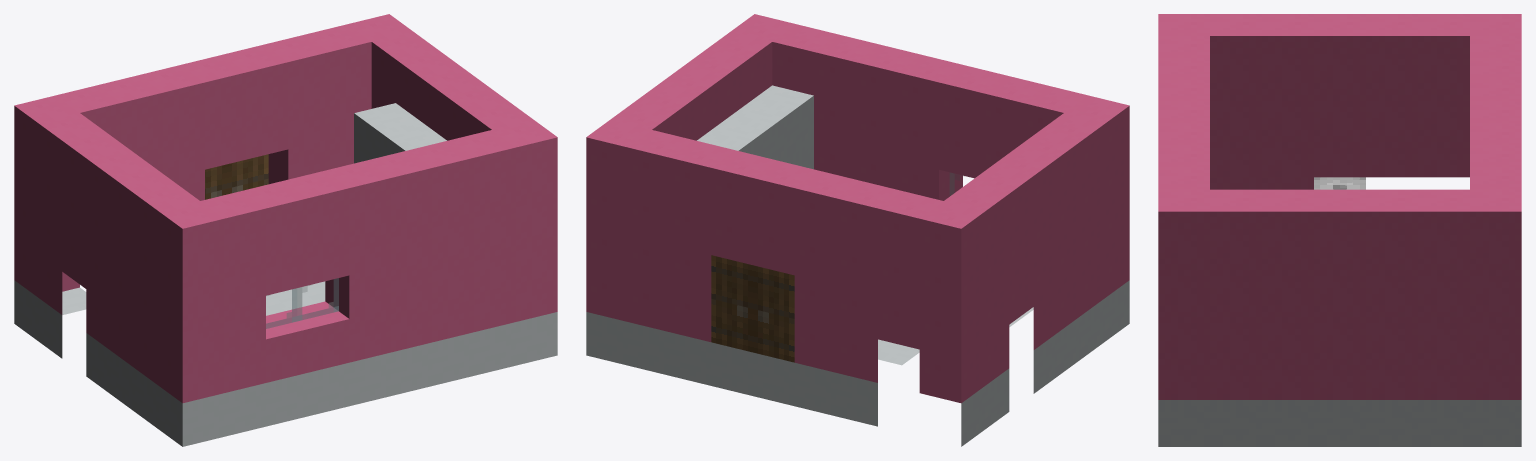
The model's file is Maquete_Isabelle Bueno Ignacio.glb.
3 renders of one model, left to right at view 1: azimuth 30°, elevation 25°; view 2: azimuth 150°, elevation 25°; view 3: azimuth 270°, elevation 25°, orthographic. The views are drawn at different scales.
Parts seen in each view (by area): view 1: node_3, node_2, node_1; view 2: node_3, node_2; view 3: node_3, node_2.
Boxes of the visible parts, x1,y1,x2,y2 form: node_3: (14, 14, 557, 446); node_2: (205, 154, 268, 199); node_1: (266, 278, 338, 328); node_3: (586, 14, 1129, 446); node_2: (711, 255, 794, 362); node_3: (1158, 14, 1521, 446); node_2: (1314, 177, 1365, 189).
Size of the model in its own units: 9 by 5 by 7.
Materials: 3 (3 with a texture image).
